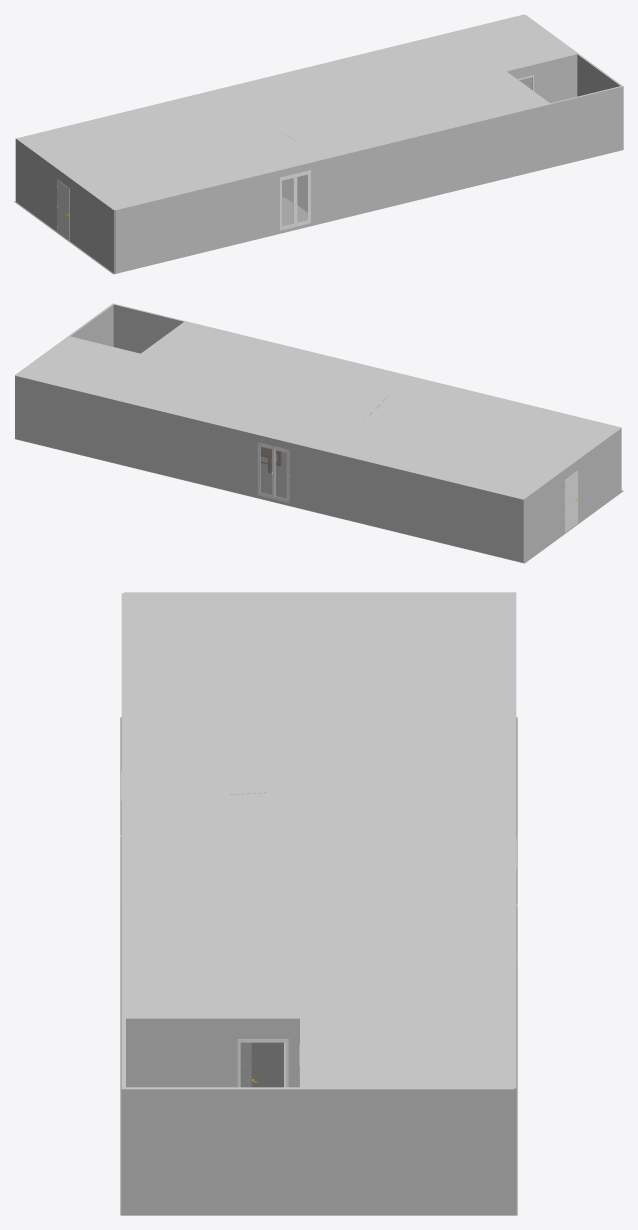
File: hsbne.obj
3 renders of one model, top to bottom at view 1: azimuth 30°, elevation 25°; view 2: azimuth 150°, elevation 25°; view 3: azimuth 270°, elevation 25°, orthographic. The views are drawn at different scales.
Visible parts, largest first — view 1: room_9_422, wall_23_135, wall_22_129, room_10_424, wall_13_78, wall_1_3, room_1_407, room_8_420, room_5_414, room_7_418, room_6_416, wall_3_18 (+7 smaller); view 2: room_9_422, wall_25_150, wall_24_144, room_10_424, wall_13_78, wall_21_126, room_1_407, room_8_420, room_5_414, room_7_418, room_6_416, wall_1_6 (+7 smaller); view 3: room_9_422, room_10_424, wall_9_51, wall_5_27, room_1_407, wall_7_39, room_8_420, room_5_414, room_7_418, room_6_416, wall_8_45, room_4_412 (+3 smaller).
Boxes of the visible parts, x1=… form: room_9_422: x1=216, y1=33, x2=547, y2=146; wall_23_135: x1=114, y1=148, x2=372, y2=273; wall_22_129: x1=372, y1=104, x2=550, y2=210; room_10_424: x1=53, y1=91, x2=320, y2=183; wall_13_78: x1=15, y1=138, x2=114, y2=273; wall_1_3: x1=550, y1=86, x2=623, y2=167; room_1_407: x1=453, y1=15, x2=563, y2=61; room_8_420: x1=152, y1=150, x2=256, y2=191; room_5_414: x1=90, y1=104, x2=193, y2=145; room_7_418: x1=81, y1=167, x2=183, y2=209; room_6_416: x1=19, y1=122, x2=121, y2=163; wall_3_18: x1=507, y1=54, x2=577, y2=103; room_9_422: x1=90, y1=322, x2=386, y2=450; wall_25_150: x1=316, y1=449, x2=523, y2=562; wall_24_144: x1=87, y1=393, x2=315, y2=512; room_10_424: x1=328, y1=377, x2=583, y2=472; wall_13_78: x1=523, y1=428, x2=621, y2=562; wall_21_126: x1=15, y1=376, x2=87, y2=456; room_1_407: x1=17, y1=346, x2=127, y2=392; room_8_420: x1=443, y1=393, x2=547, y2=435; room_5_414: x1=381, y1=439, x2=485, y2=481; room_7_418: x1=516, y1=410, x2=618, y2=452; room_6_416: x1=454, y1=457, x2=555, y2=498; wall_1_6: x1=113, y1=304, x2=183, y2=353; room_9_422: x1=126, y1=786, x2=513, y2=1016; room_10_424: x1=126, y1=594, x2=511, y2=794; wall_9_51: x1=121, y1=1089, x2=302, y2=1215; wall_5_27: x1=352, y1=1089, x2=513, y2=1215; room_1_407: x1=351, y1=1018, x2=514, y2=1088; wall_7_39: x1=126, y1=1018, x2=299, y2=1087; room_8_420: x1=126, y1=663, x2=261, y2=732; room_5_414: x1=377, y1=663, x2=511, y2=732; room_7_418: x1=124, y1=593, x2=261, y2=661; room_6_416: x1=375, y1=593, x2=511, y2=661; wall_8_45: x1=302, y1=1089, x2=352, y2=1215; room_4_412: x1=126, y1=796, x2=228, y2=842.
Size of the model in its own units: 2113 by 250 by 712.
17 materials, 2 textured.
